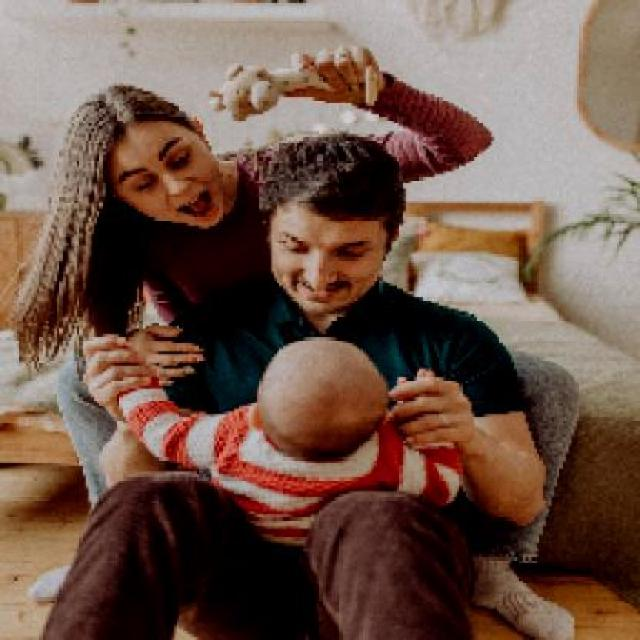child: (117, 333, 466, 541)
